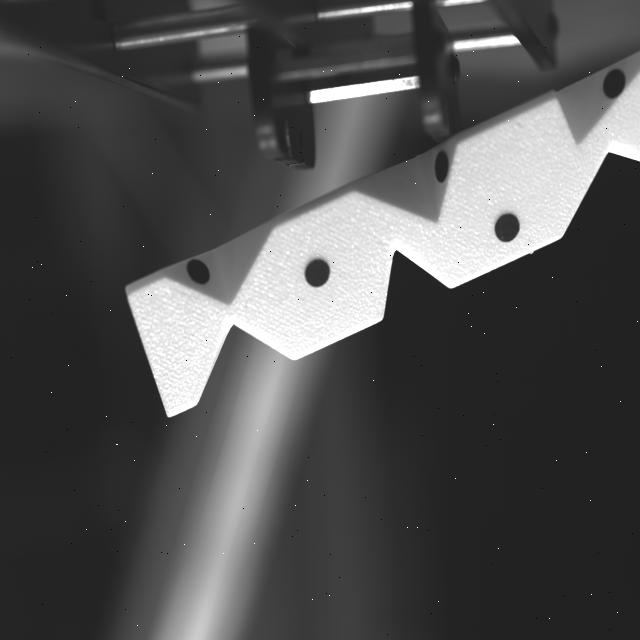circle point: (494, 212, 520, 242), (602, 68, 626, 100), (304, 259, 330, 287), (187, 258, 210, 284), (435, 150, 449, 182)
